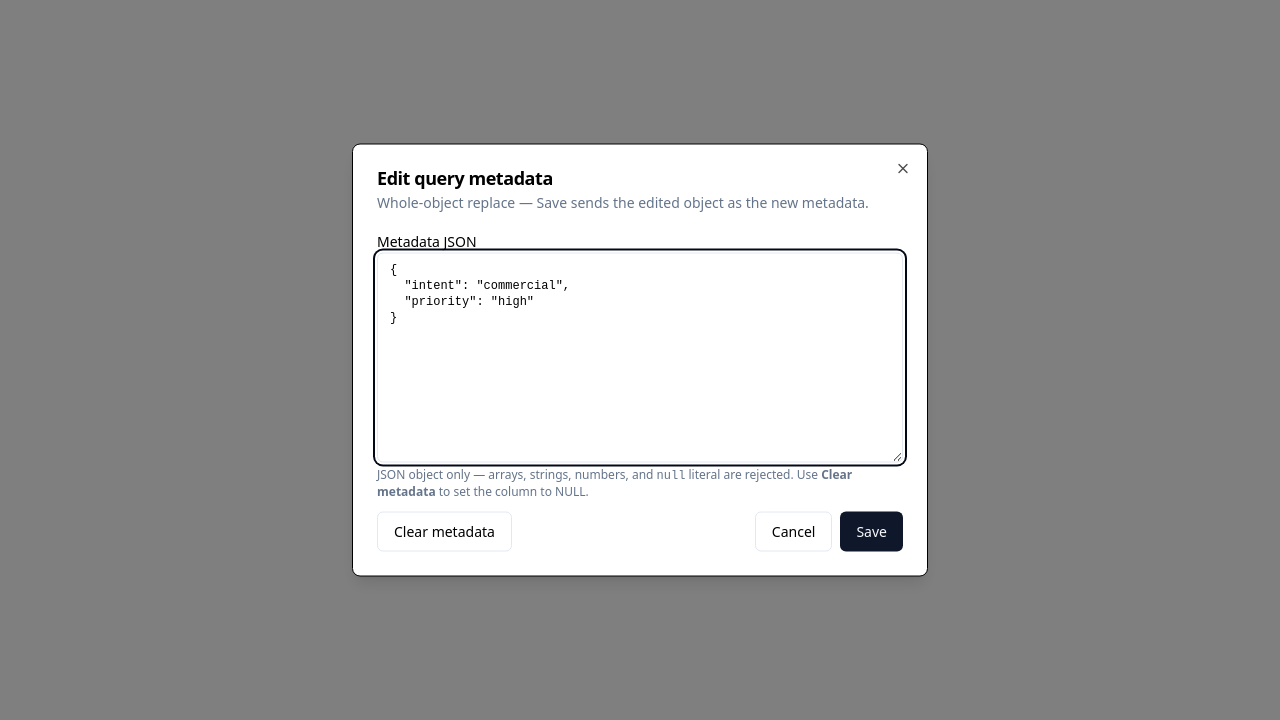
Test: EditMetadataDialog › rejects non-object JSON (array) inline and does NOT send PATCH
Replace the text in the text box with test id "edit-metadata-textarea" with "[1, 2, 3]": (640, 358) 377,252 -> 903,462
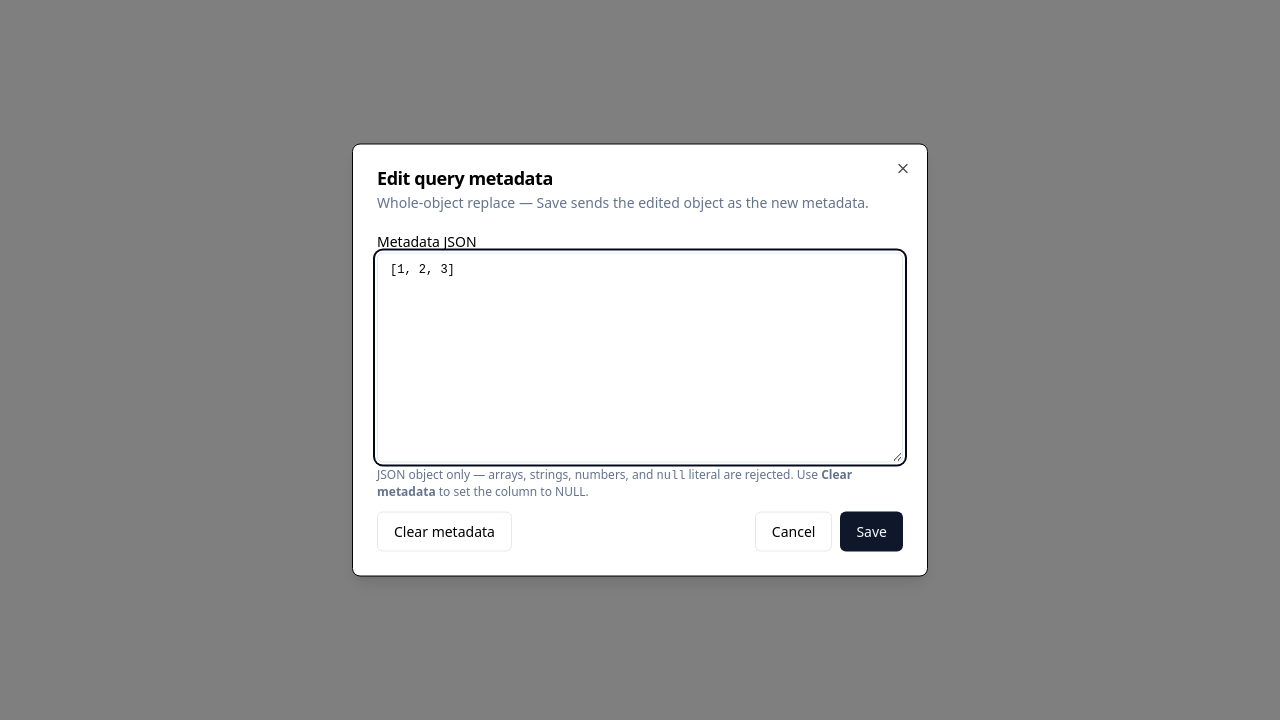
Click the button with test id "save-metadata-button": (872, 532) 840,512 -> 903,552
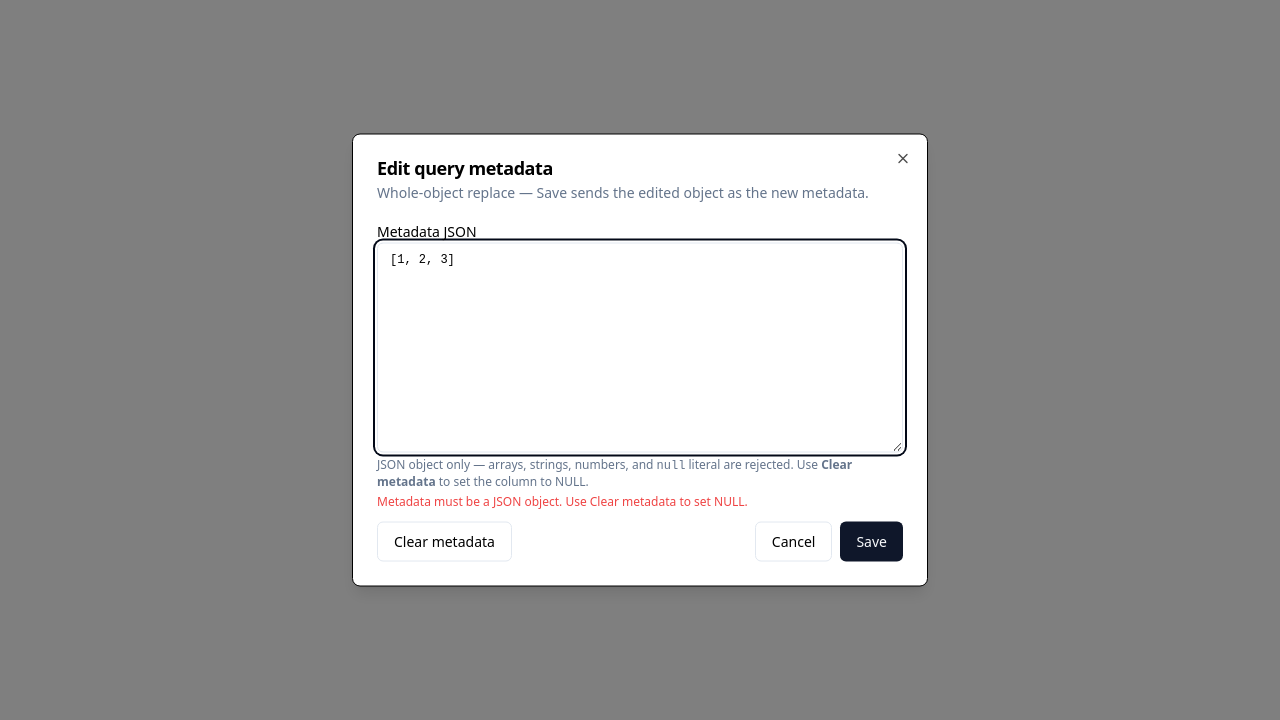
Result: the message with test id "metadata-json-error" shows "must be a JSON object" at 377,492 -> 748,510
